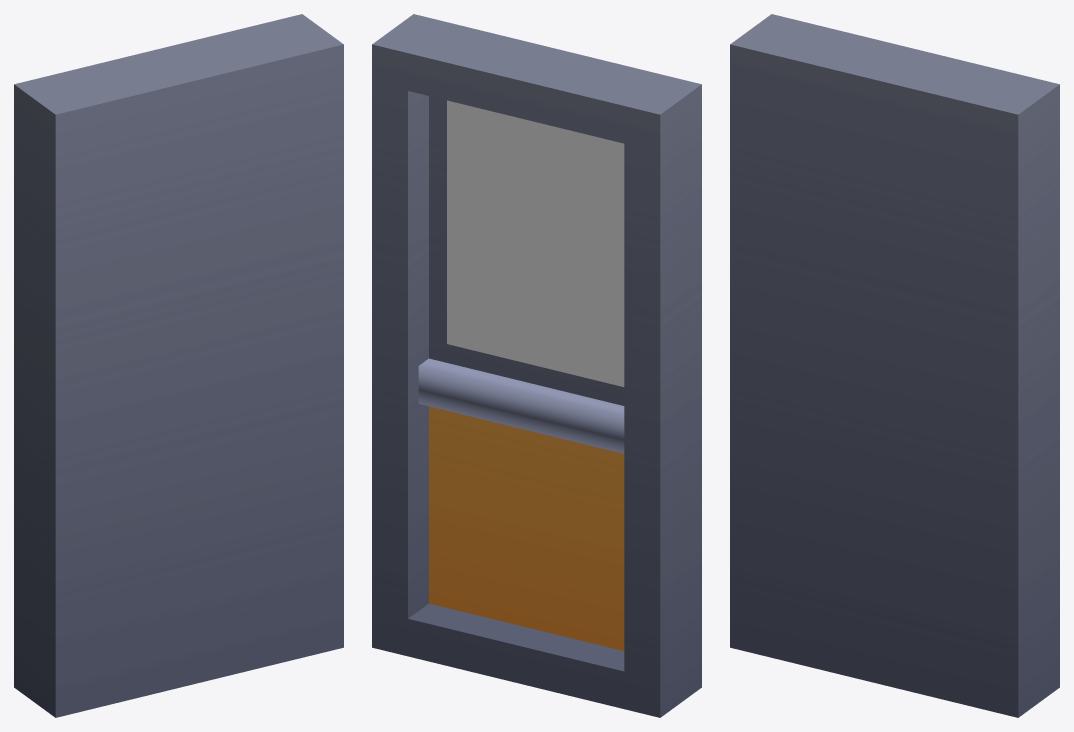
3 renders of one model, left to right at view 1: azimuth 30°, elevation 25°; view 2: azimuth 150°, elevation 25°; view 3: azimuth 330°, elevation 25°, orthographic.
Visible parts, largest first — view 1: door; view 2: door; view 3: door.
Part boxes in pixels (x1,y1,x2,y2): door: [14, 14, 343, 717]; door: [372, 14, 701, 717]; door: [730, 14, 1059, 717].
Bounding box in the file's own units: 0.8 × 1.6 × 0.2.
Materials: 1 (1 with a texture image).
